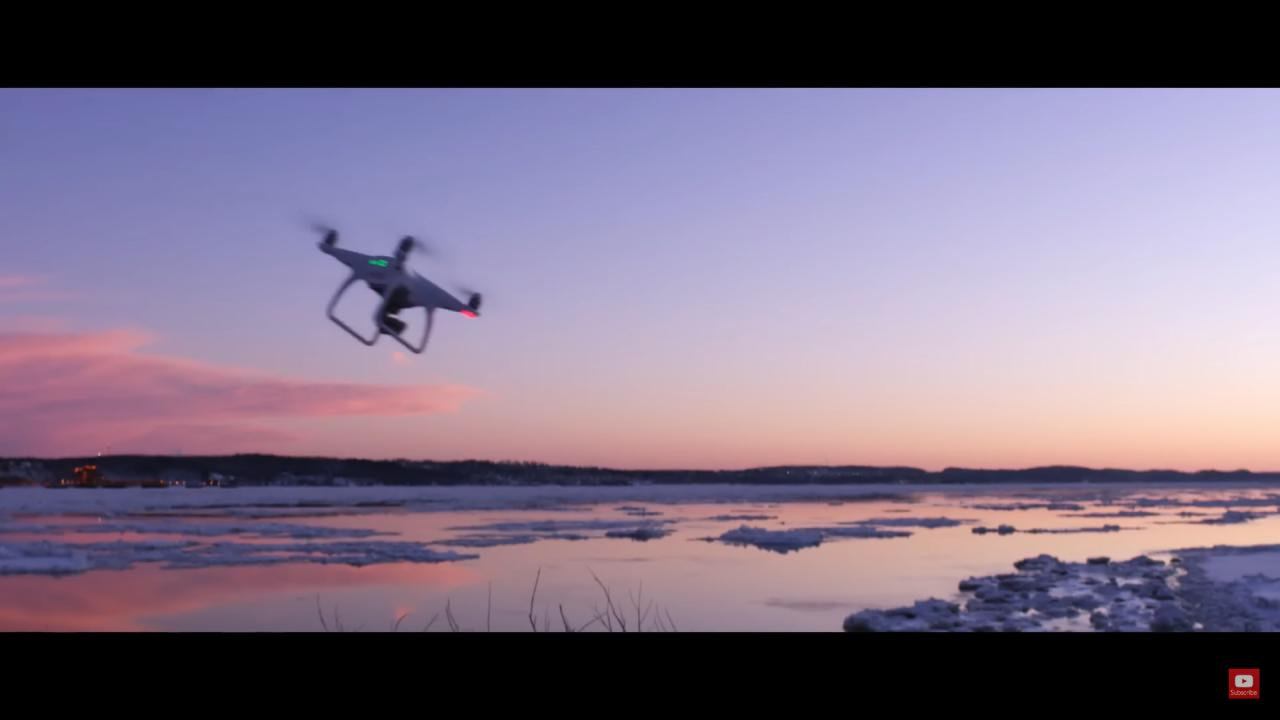Drone: (302, 208, 491, 365)
